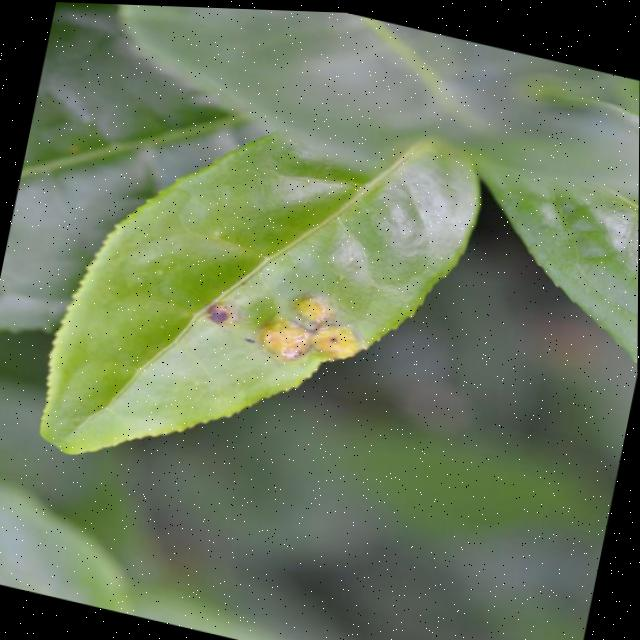Tea cake: (251, 281, 361, 373), (193, 288, 243, 329)
